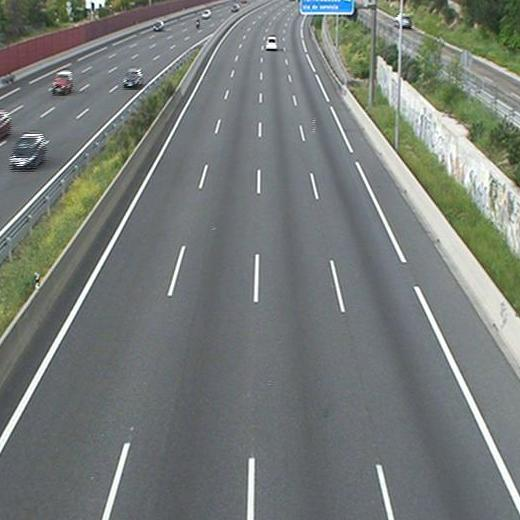car: (265, 36, 278, 50)
